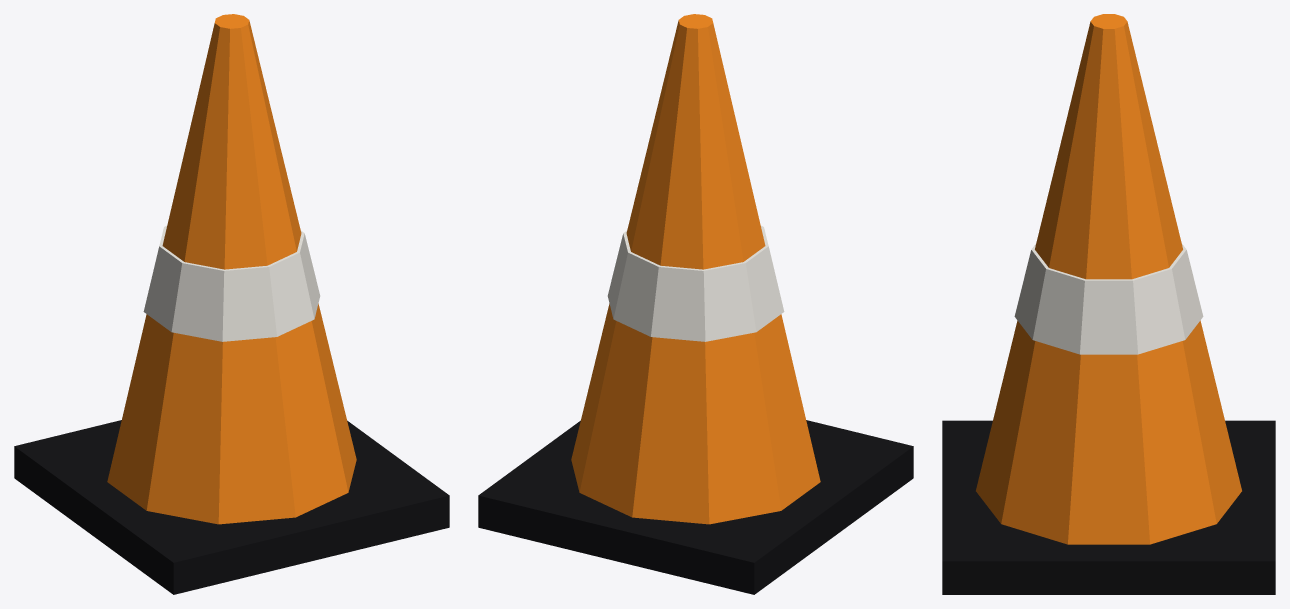
Rendered from PRP_TrafficCone.fbx.
3 renders of one model, left to right at view 1: azimuth 30°, elevation 25°; view 2: azimuth 150°, elevation 25°; view 3: azimuth 270°, elevation 25°, orthographic. The views are drawn at different scales.
Visible parts, largest first — view 1: PRP_TrafficCone; view 2: PRP_TrafficCone; view 3: PRP_TrafficCone.
Boxes of the visible parts, x1,y1,x2,y2 form: PRP_TrafficCone: [14, 14, 449, 594]; PRP_TrafficCone: [478, 14, 913, 594]; PRP_TrafficCone: [942, 14, 1275, 594].
Bounding box in the file's own units: 0.9 × 1.5 × 0.9.
